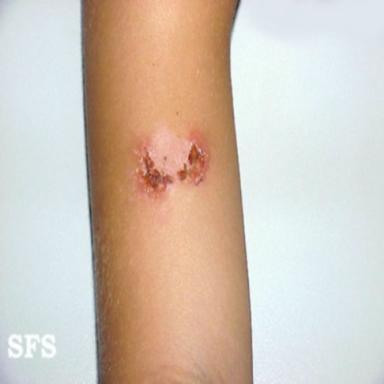Impetigo: (131, 124, 211, 201)
